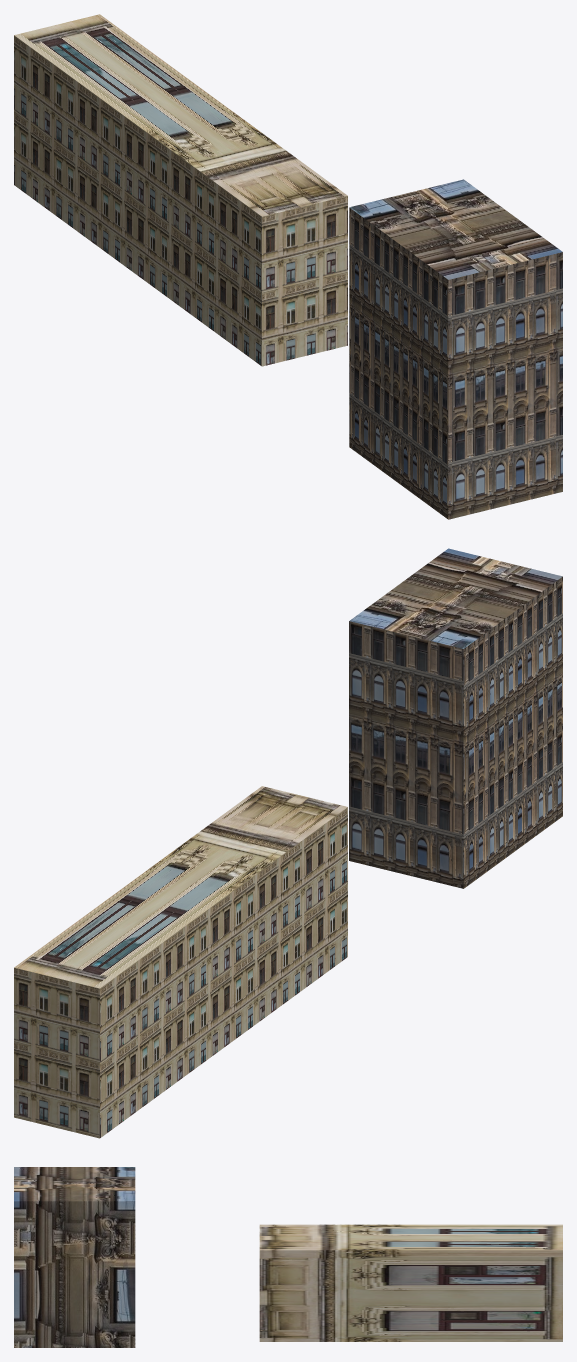
File: Дом.fbx
3 views of the same model, one above another, from view 1: azimuth 30°, elevation 25°; view 2: azimuth 150°, elevation 25°; view 3: azimuth 270°, elevation 25° (orthographic). The views are drawn at different scales.
Parts seen in each view (by area): view 1: Куб, Куб.001; view 2: Куб, Куб.001; view 3: Куб, Куб.001.
Part boxes in pixels (x1,y1,x2,y2): Куб: (14,14,347,366); Куб.001: (349,179,562,519); Куб: (14,786,347,1138); Куб.001: (349,548,562,888); Куб: (259,1224,562,1341); Куб.001: (14,1167,135,1347).
Bounding box in the file's own units: 8000 × 16000 × 54268.
2 materials, 2 textured.
